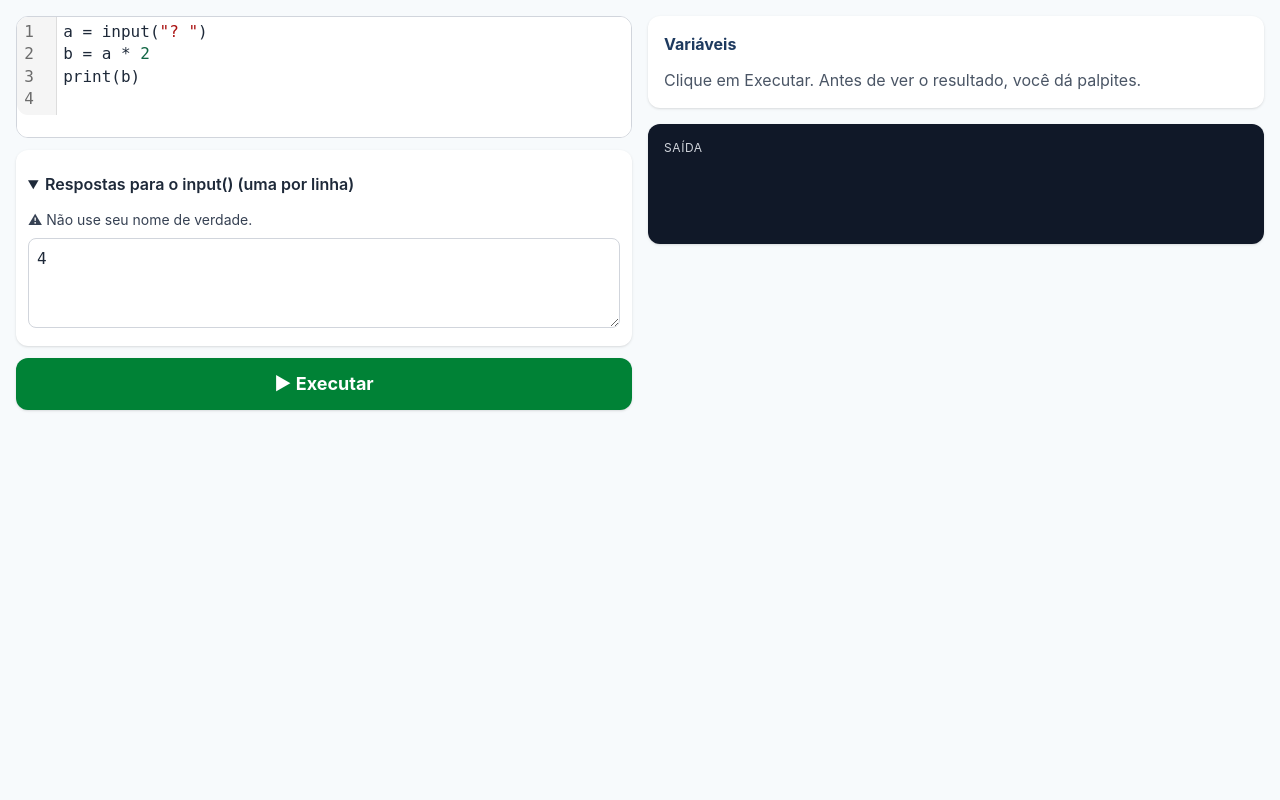
Test case: Palco no modo Prever, com resposta livre › o mesmo valor marcado como texto está certo
Click the button "▶ Executar" at (324, 384), box [16,358,632,410]
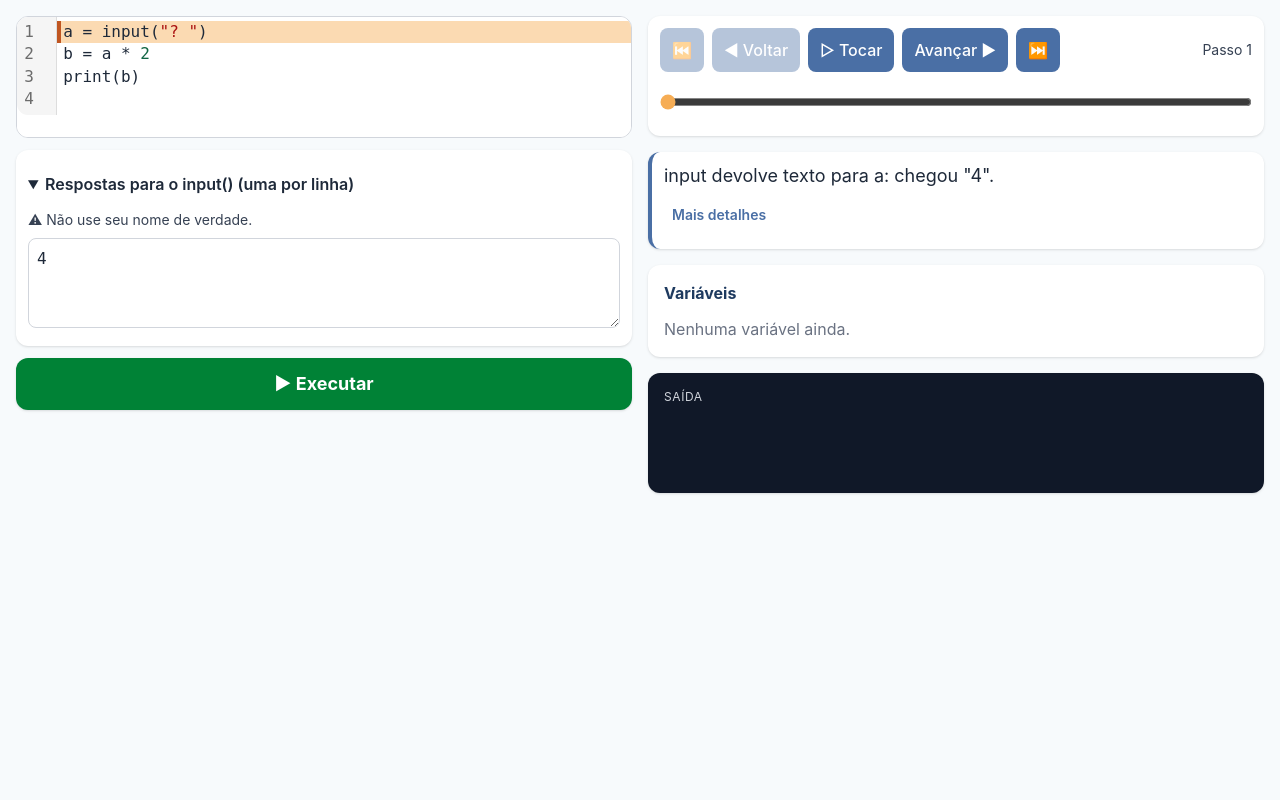
Check: the text "Passo 1" is shown, box [1202,40,1252,60]
Click the button "Avançar ▶" at (955, 50), box [902,28,1008,72]
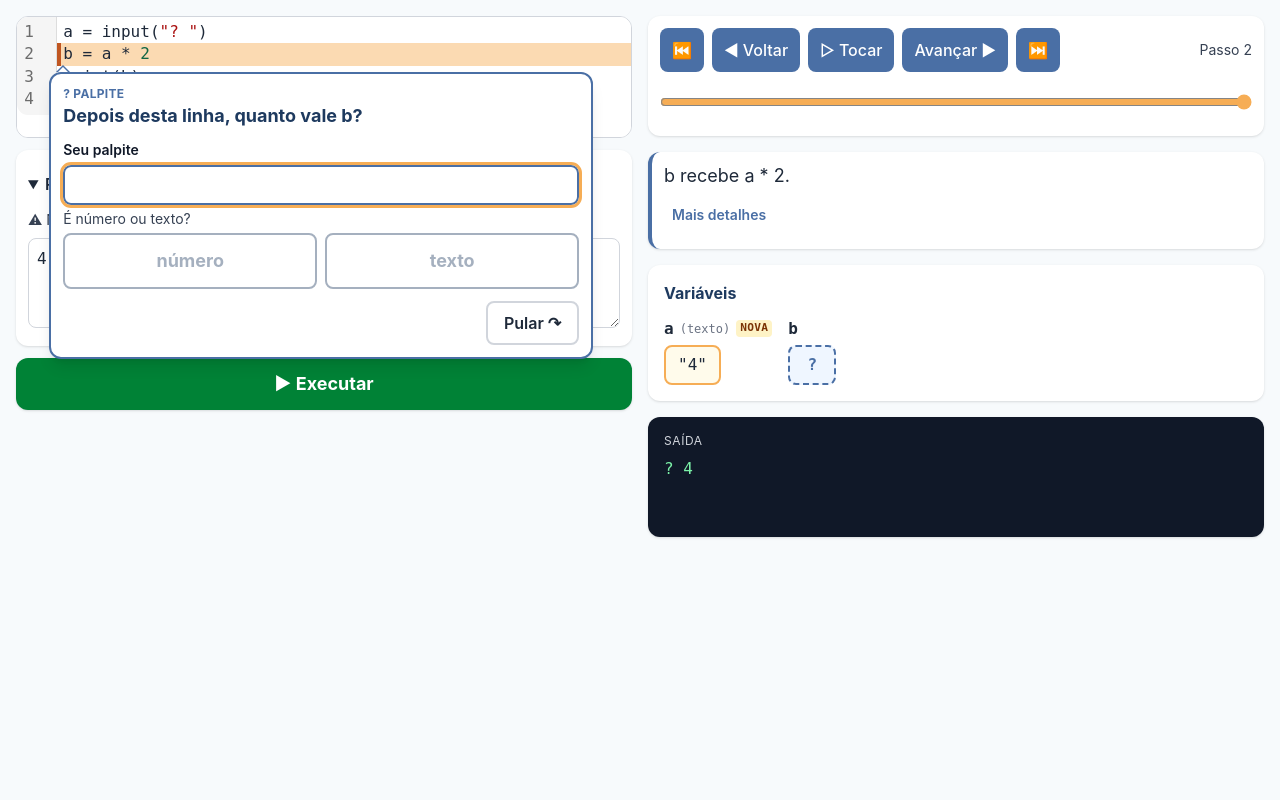
Type keys "44"
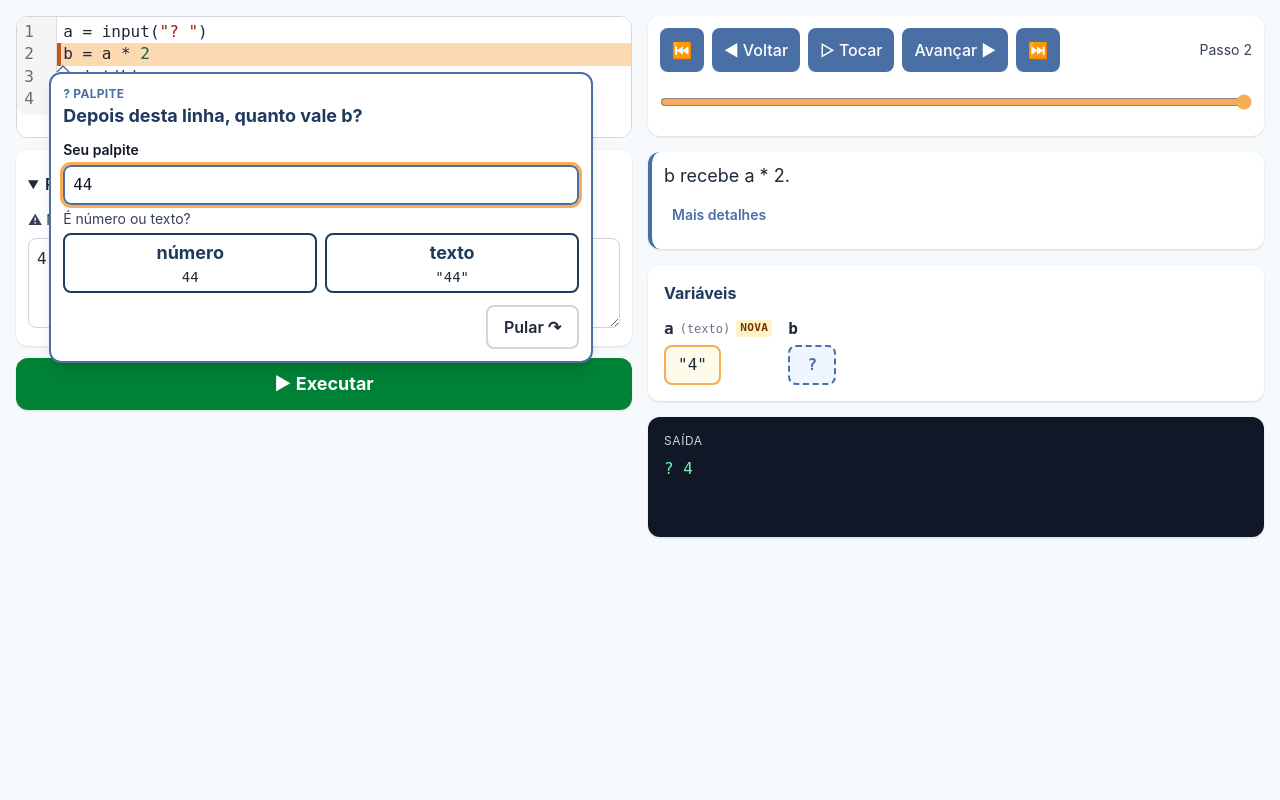
Click the button "texto \"44\"" at (452, 263), box [325,233,579,293]
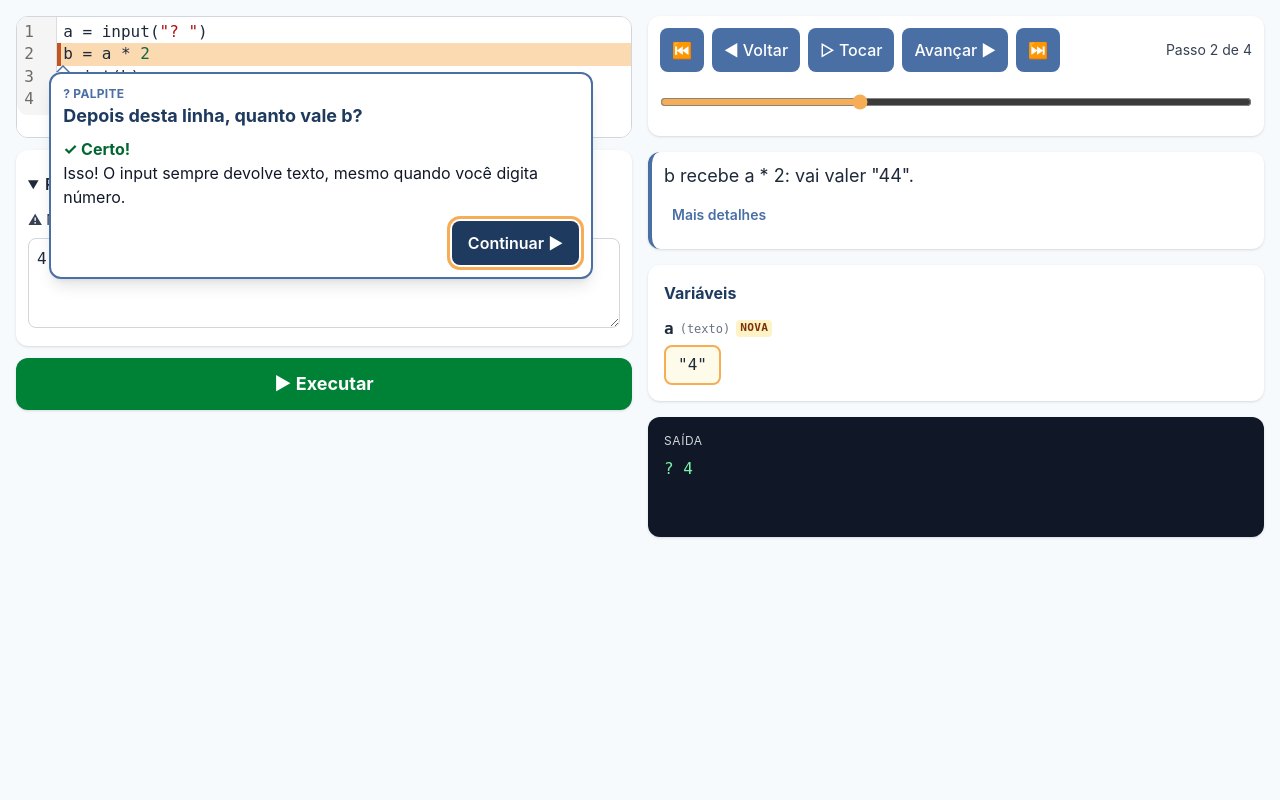
Check: the message shows "✓ Certo!", box [63,137,579,209]
